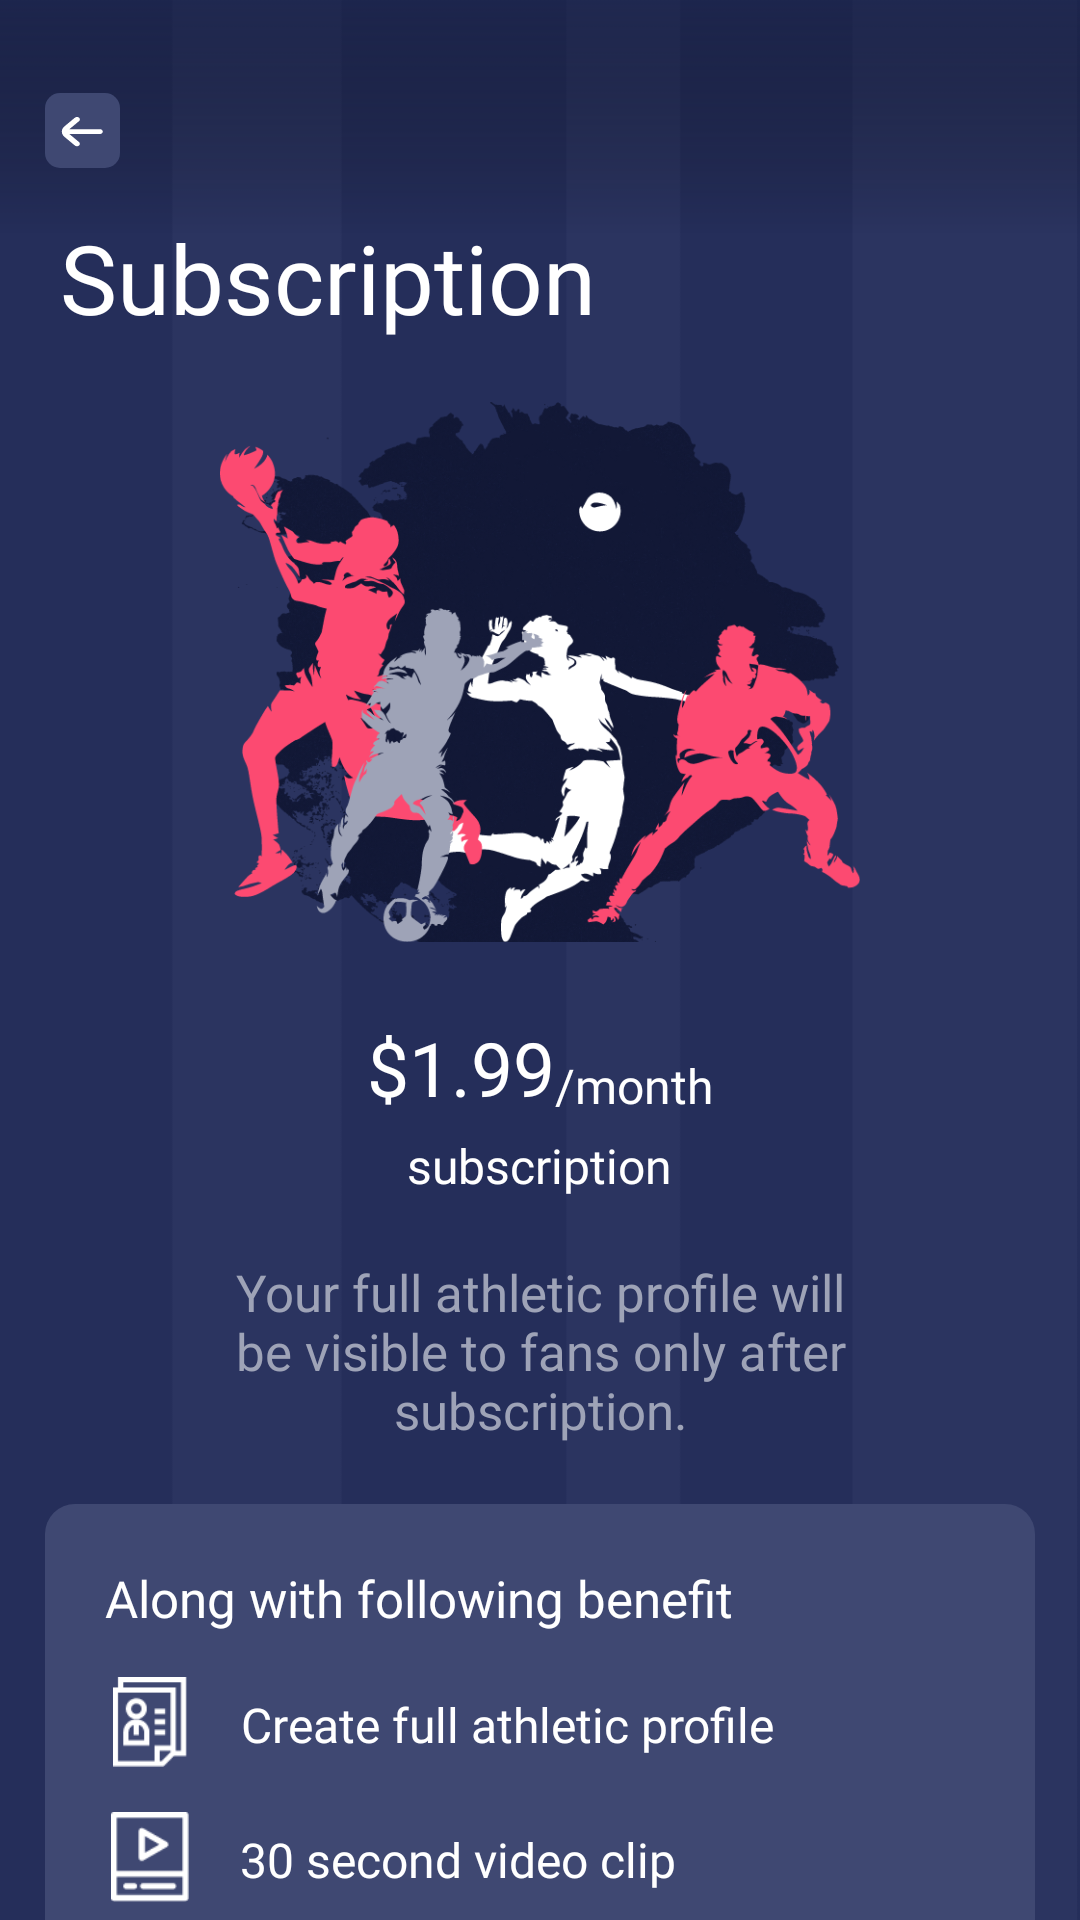

Locate icon controls on the screen. Image size 1080 x 1920, boxes as bbox=[x1, y1, x2, y2].
back arrow: bbox=[45, 93, 120, 168]
subs create profile: bbox=[113, 1677, 187, 1767]
